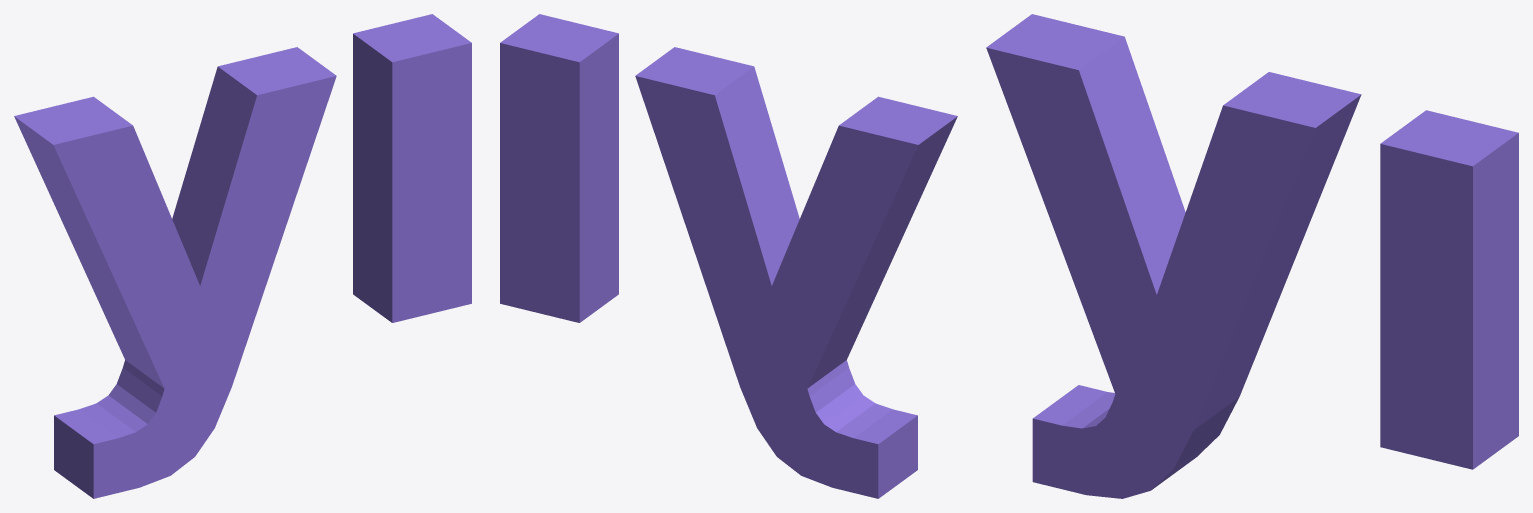
Rendered from suku_kecil_yi.glb.
The picture shows the model from 3 angles, left to right: view 1: azimuth 30°, elevation 25°; view 2: azimuth 150°, elevation 25°; view 3: azimuth 330°, elevation 25°; orthographic projection. The views are drawn at different scales.
Parts seen in each view (by area): view 1: geometry_0; view 2: geometry_0; view 3: geometry_0.
Boxes of the visible parts, x1=… form: geometry_0: x1=14, y1=14, x2=471, y2=498; geometry_0: x1=500, y1=14, x2=957, y2=498; geometry_0: x1=986, y1=14, x2=1518, y2=498.
Size of the model in its own units: 9.18 by 7.63 by 1.5.
